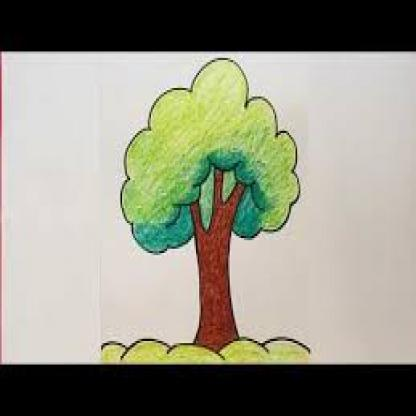branch_cut: (186, 170, 246, 245)
trunk_straight: (121, 61, 300, 256), (194, 244, 239, 332)
